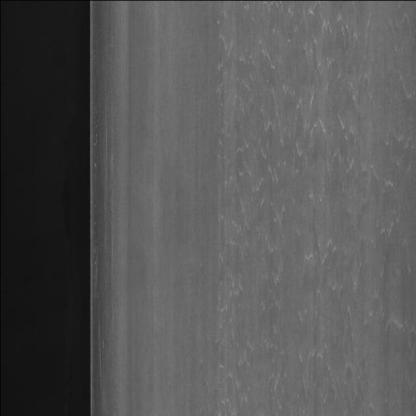silk_spot: (212, 14, 409, 410)
